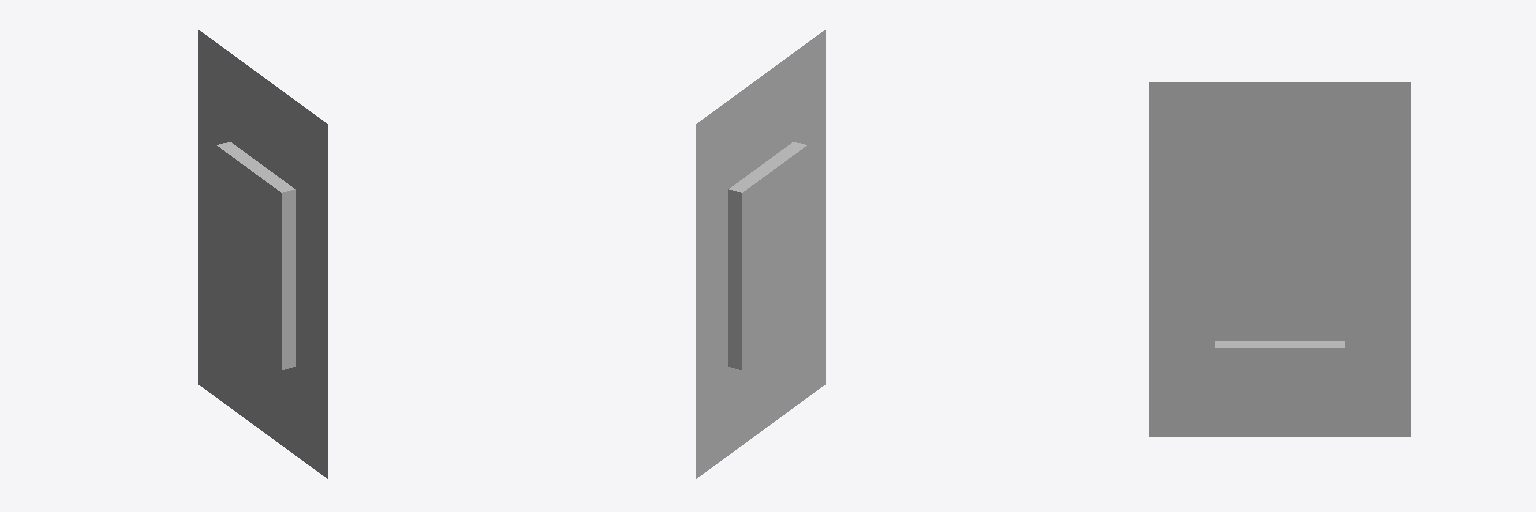
File: Building_Wall_01_Type2.obj
3 views of the same model, side by side, from view 1: azimuth 30°, elevation 25°; view 2: azimuth 150°, elevation 25°; view 3: azimuth 270°, elevation 25° (orthographic).
Visible parts, largest first — view 1: Building_Wall_01_Type2_Cube.028; view 2: Building_Wall_01_Type2_Cube.028; view 3: Building_Wall_01_Type2_Cube.028.
Part boxes in pixels (left/top/right/bottom): Building_Wall_01_Type2_Cube.028: left=198, top=30, right=327, bottom=478; Building_Wall_01_Type2_Cube.028: left=696, top=30, right=825, bottom=478; Building_Wall_01_Type2_Cube.028: left=1149, top=82, right=1410, bottom=436.
Bounding box in the file's own units: 0.125 × 3 × 2.